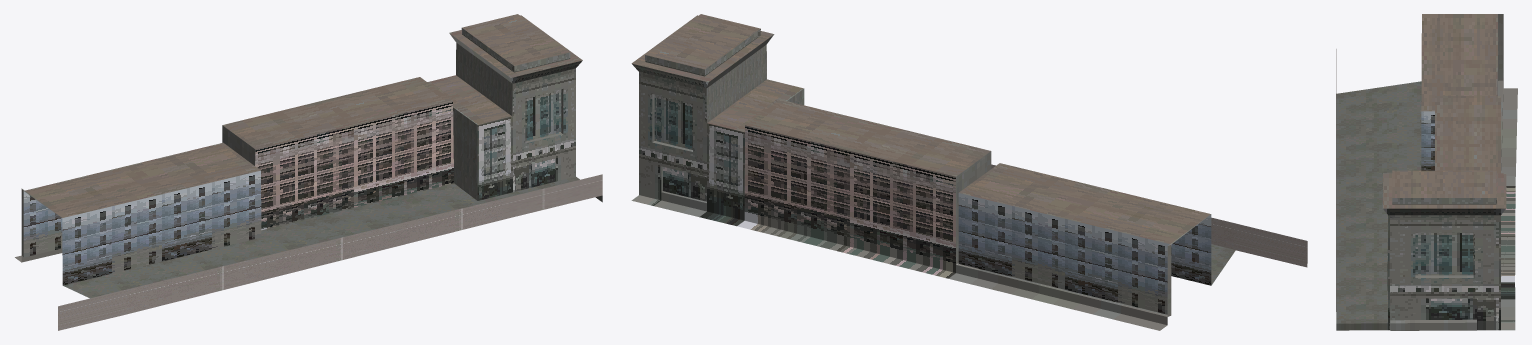
File: lodtwnbit4_las01.obj
The picture shows the model from 3 angles, left to right: view 1: azimuth 30°, elevation 25°; view 2: azimuth 150°, elevation 25°; view 3: azimuth 270°, elevation 25°; orthographic projection. The views are drawn at different scales.
Parts seen in each view (by area): view 1: LODtwnbit4_LAS01; view 2: LODtwnbit4_LAS01; view 3: LODtwnbit4_LAS01.
Boxes of the visible parts, x1=… form: LODtwnbit4_LAS01: x1=15, y1=14, x2=602, y2=330; LODtwnbit4_LAS01: x1=631, y1=14, x2=1307, y2=330; LODtwnbit4_LAS01: x1=1336, y1=14, x2=1517, y2=330.
Bounding box in the file's own units: 111 × 25.3 × 31.81.
Materials: 6 (6 with a texture image).
